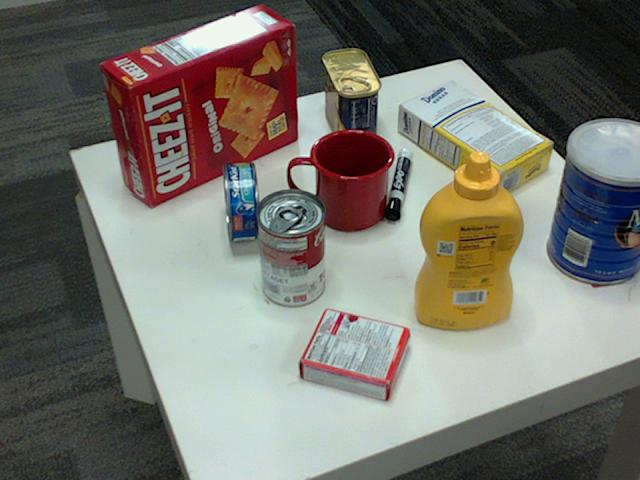cracker_box: (100, 2, 297, 204)
gelatin_box: (297, 308, 408, 403)
large_marker: (384, 151, 412, 220)
master_chef_can: (547, 118, 639, 285)
mug: (288, 126, 395, 229)
mustard_bottle: (414, 151, 524, 328)
potted_meat_can: (320, 49, 379, 148)
sugar_box: (398, 81, 555, 198)
tomato_soup_can: (256, 189, 325, 306)
tuna_fish_can: (222, 161, 259, 242)
